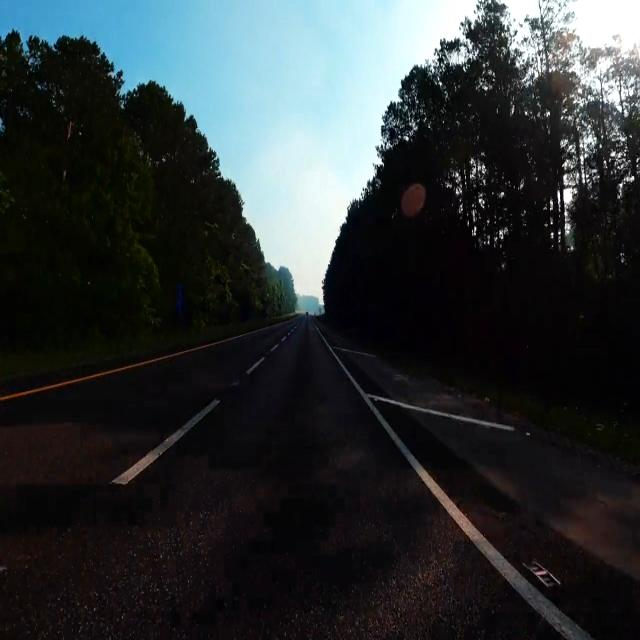road: (0, 318, 557, 637), (377, 404, 640, 636)
